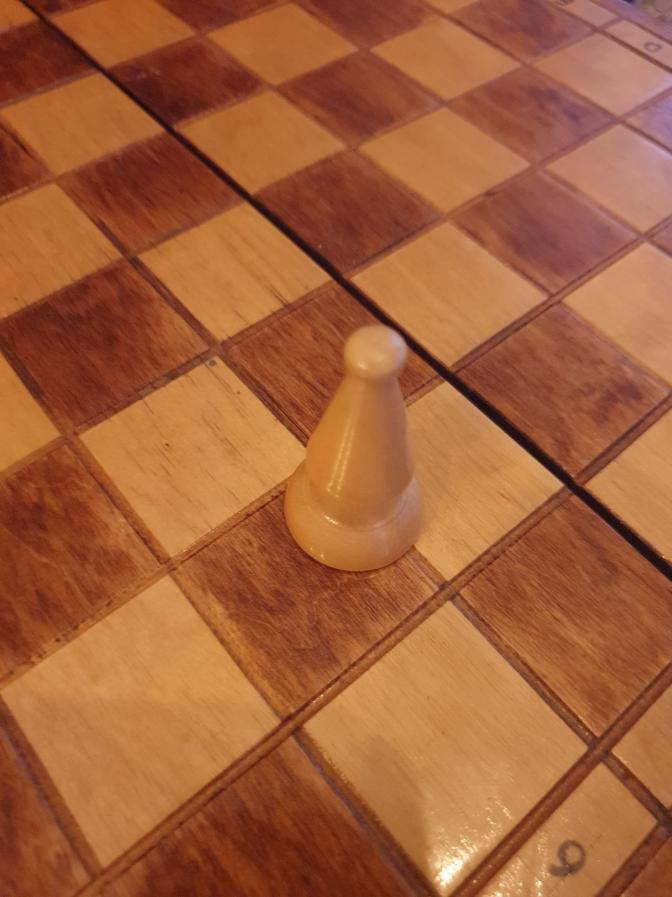wbishop: (283, 325, 424, 575)
